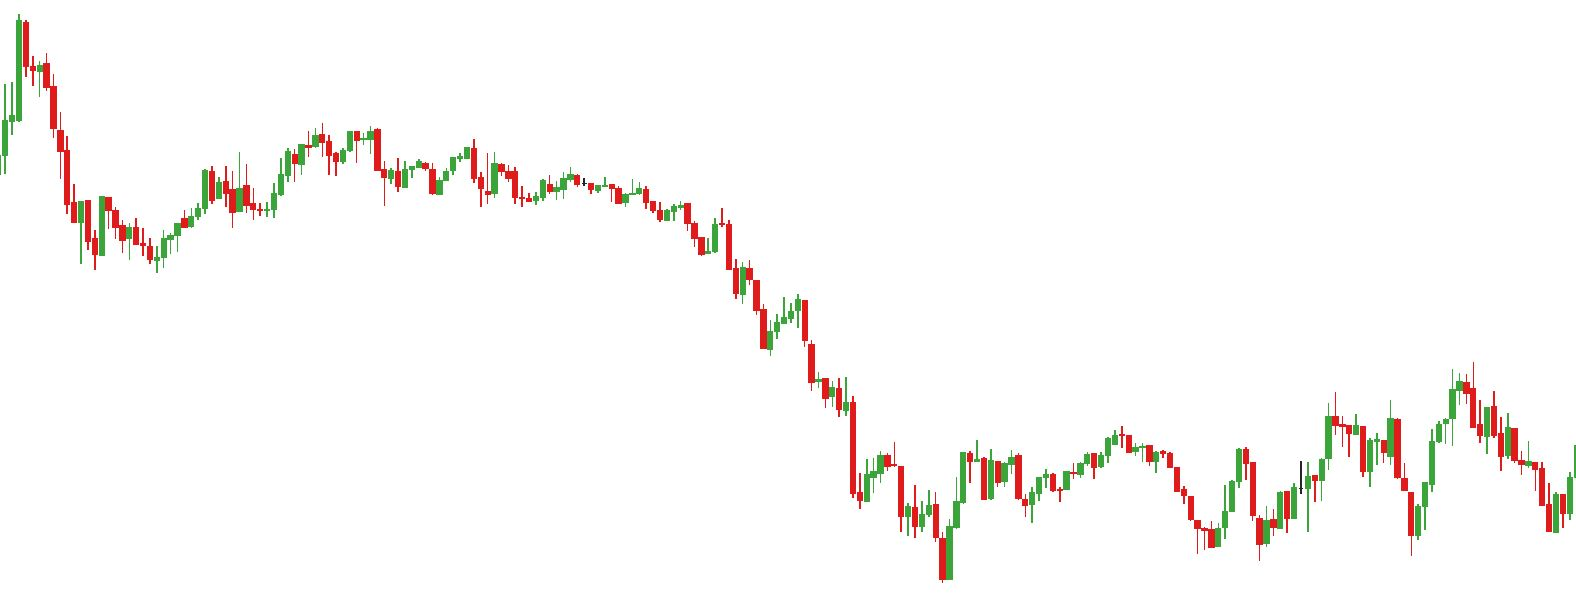buy: (1303, 438, 1423, 556), (1191, 486, 1271, 563)
